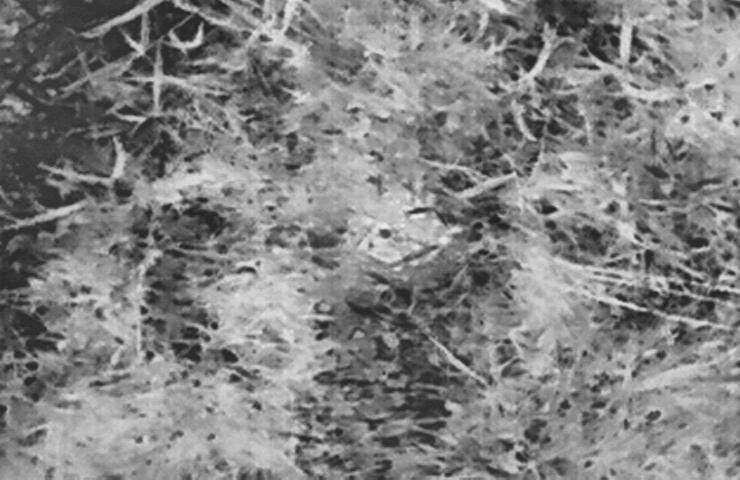landmines: (324, 164, 462, 284)
